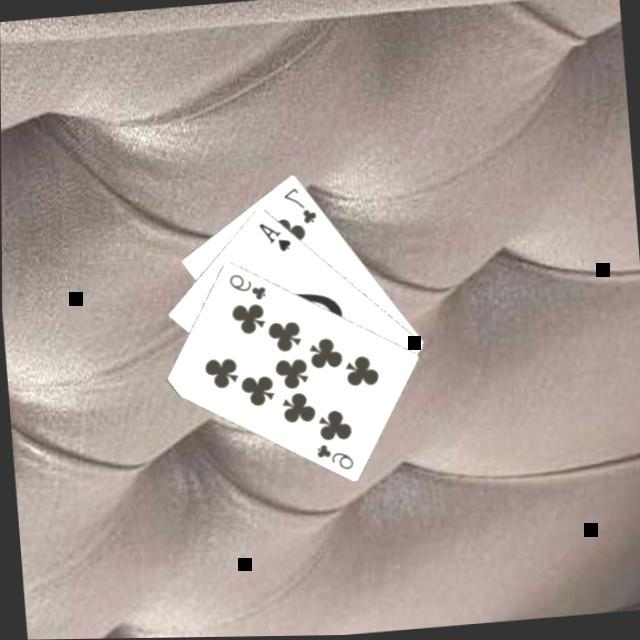7C: (276, 182, 317, 228)
9C: (222, 267, 266, 305), (310, 437, 354, 475)
AS: (251, 215, 292, 256)
